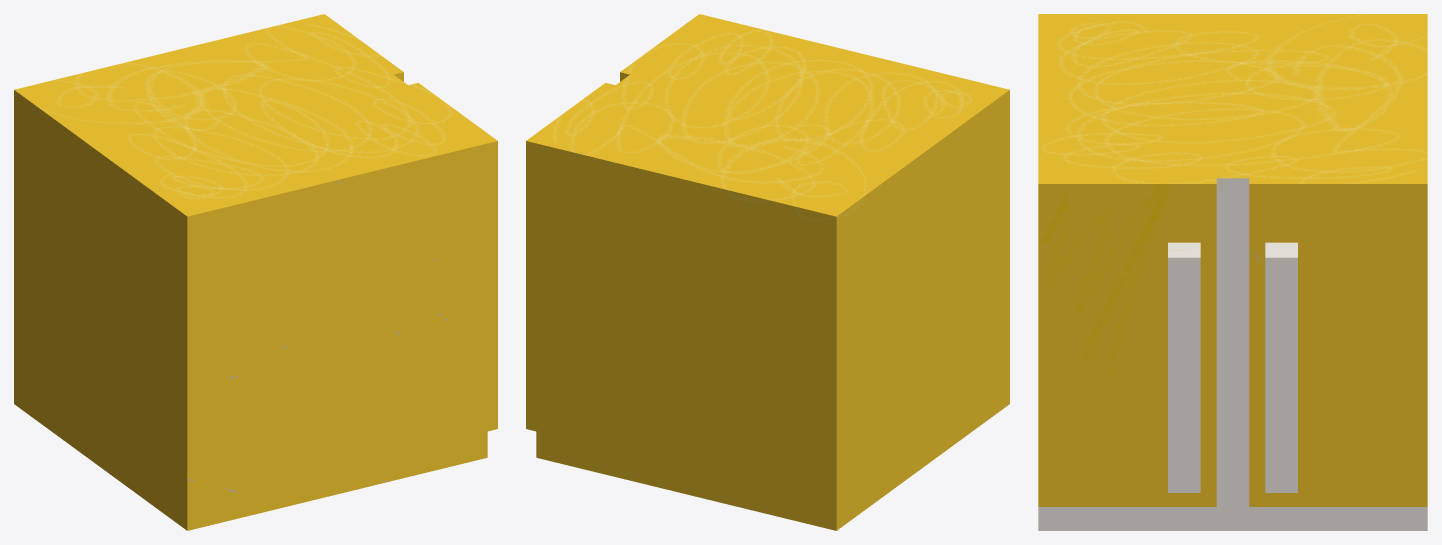
The model's file is Cabinet.fbx.
The picture shows the model from 3 angles, left to right: view 1: azimuth 30°, elevation 25°; view 2: azimuth 150°, elevation 25°; view 3: azimuth 270°, elevation 25°; orthographic projection. The views are drawn at different scales.
Visible parts, largest first — view 1: Cube; view 2: Cube; view 3: Cube.
Boxes of the visible parts, bbox=[...] form: Cube: bbox=[14, 14, 497, 530]; Cube: bbox=[526, 14, 1009, 530]; Cube: bbox=[1038, 14, 1427, 530].
Bounding box in the file's own units: 225 × 200 × 200.
